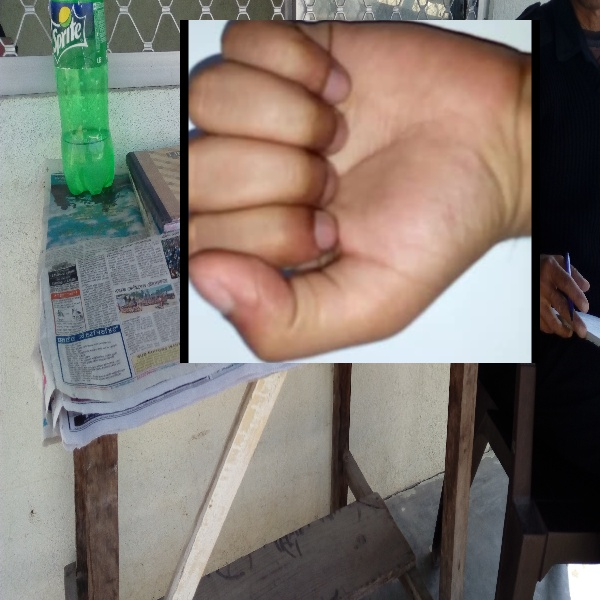A: (180, 20, 540, 363)
